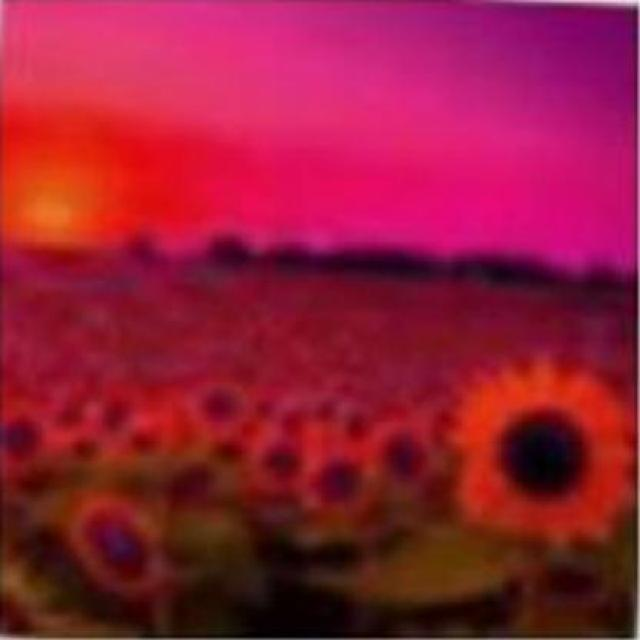sunflower: (457, 377, 625, 545)
